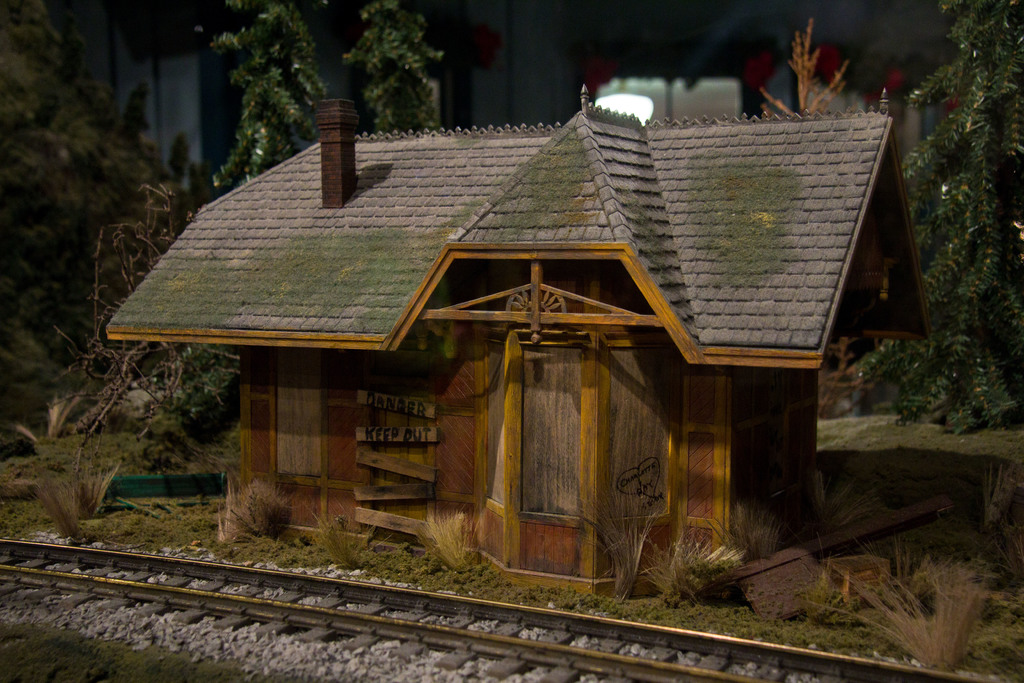Tree: (1, 0, 290, 449), (706, 0, 952, 320), (873, 0, 1018, 447), (761, 0, 911, 356), (197, 0, 357, 213), (336, 0, 436, 135)
